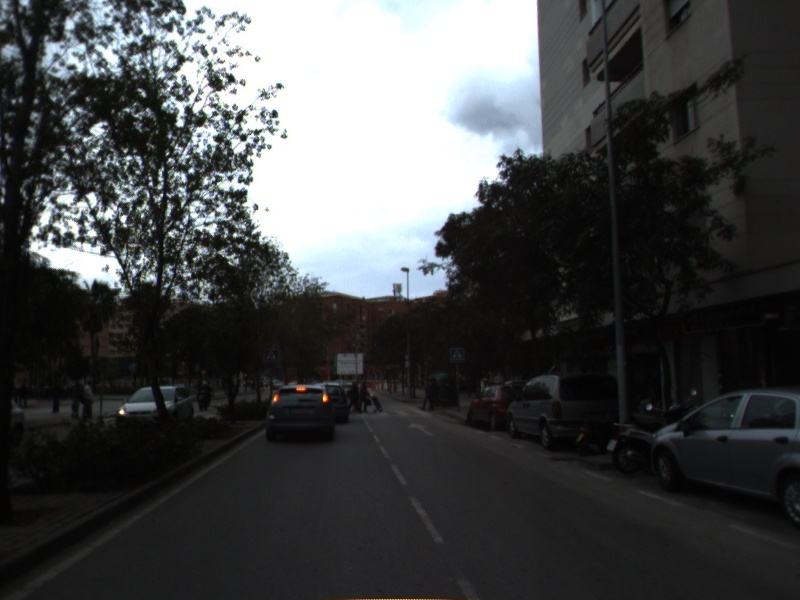STRAIGHT: (406, 420, 437, 439)
